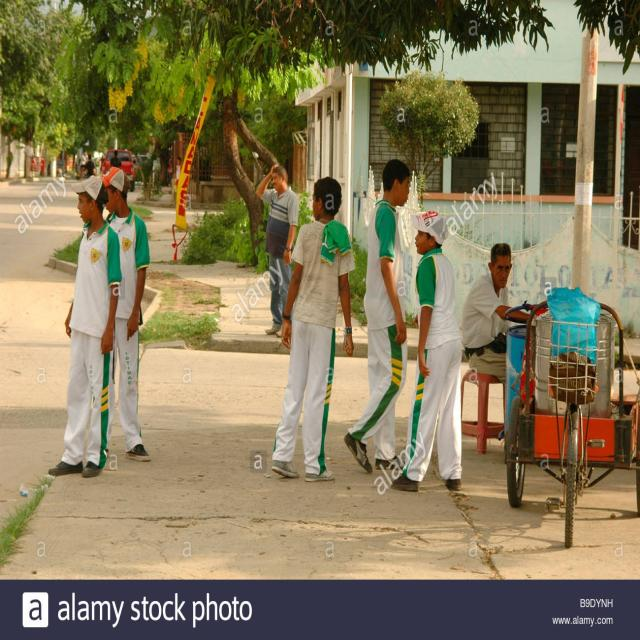body: (267, 175, 356, 484), (46, 174, 123, 481), (342, 158, 412, 474), (389, 209, 465, 495), (97, 166, 155, 465), (460, 242, 530, 386), (253, 162, 300, 336), (77, 150, 107, 178), (82, 153, 98, 179), (110, 149, 123, 168), (166, 158, 173, 190), (175, 156, 182, 187), (45, 159, 53, 181)
